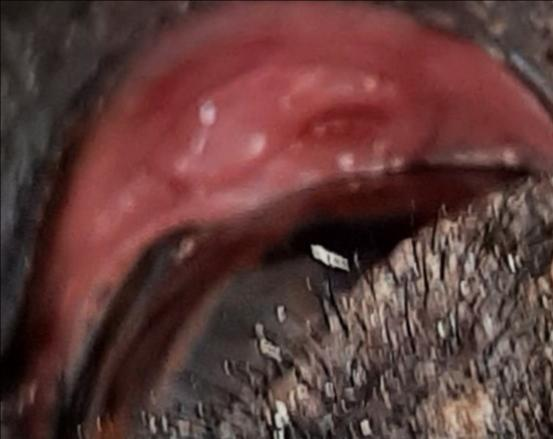eye_membrane: (59, 6, 550, 314)
